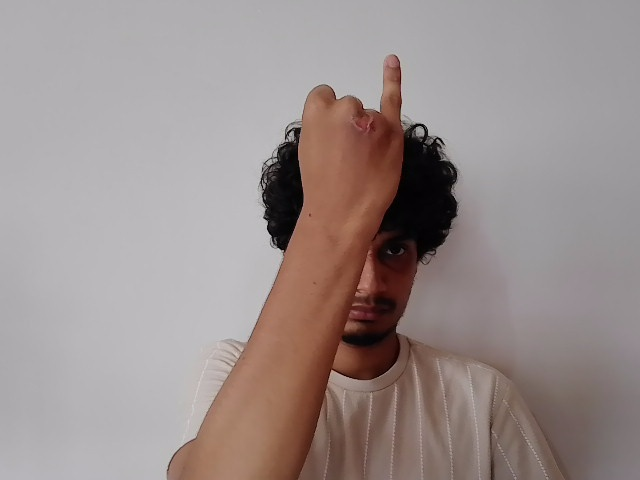bad: (295, 54, 403, 219)
